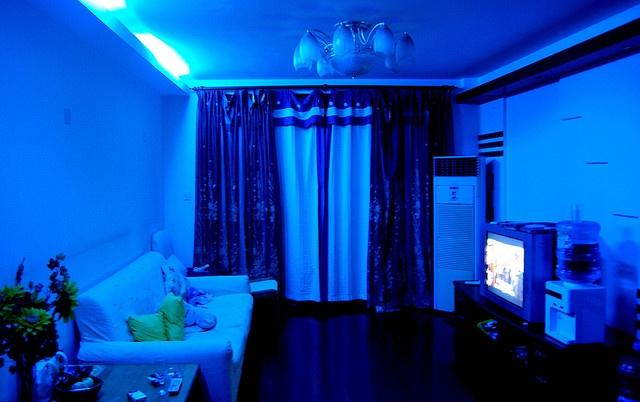AIO PC-Monitor-TV: (478, 222, 532, 323)
Dispenser: (542, 220, 606, 344)
